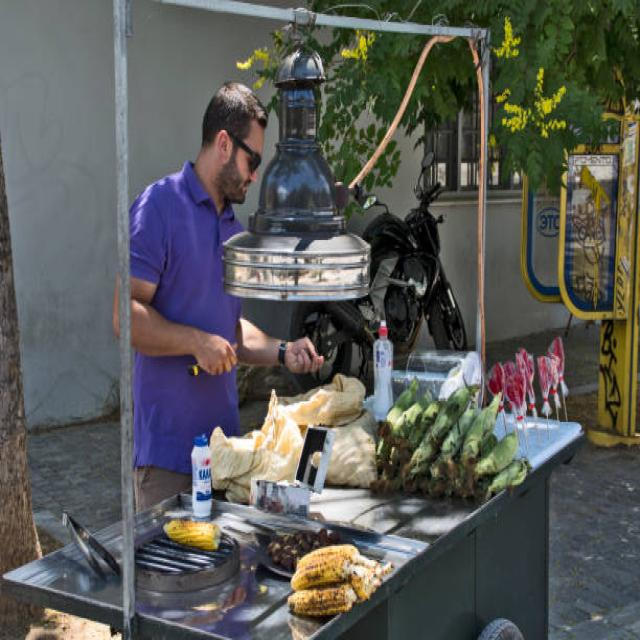Emperan: (56, 0, 600, 640)
